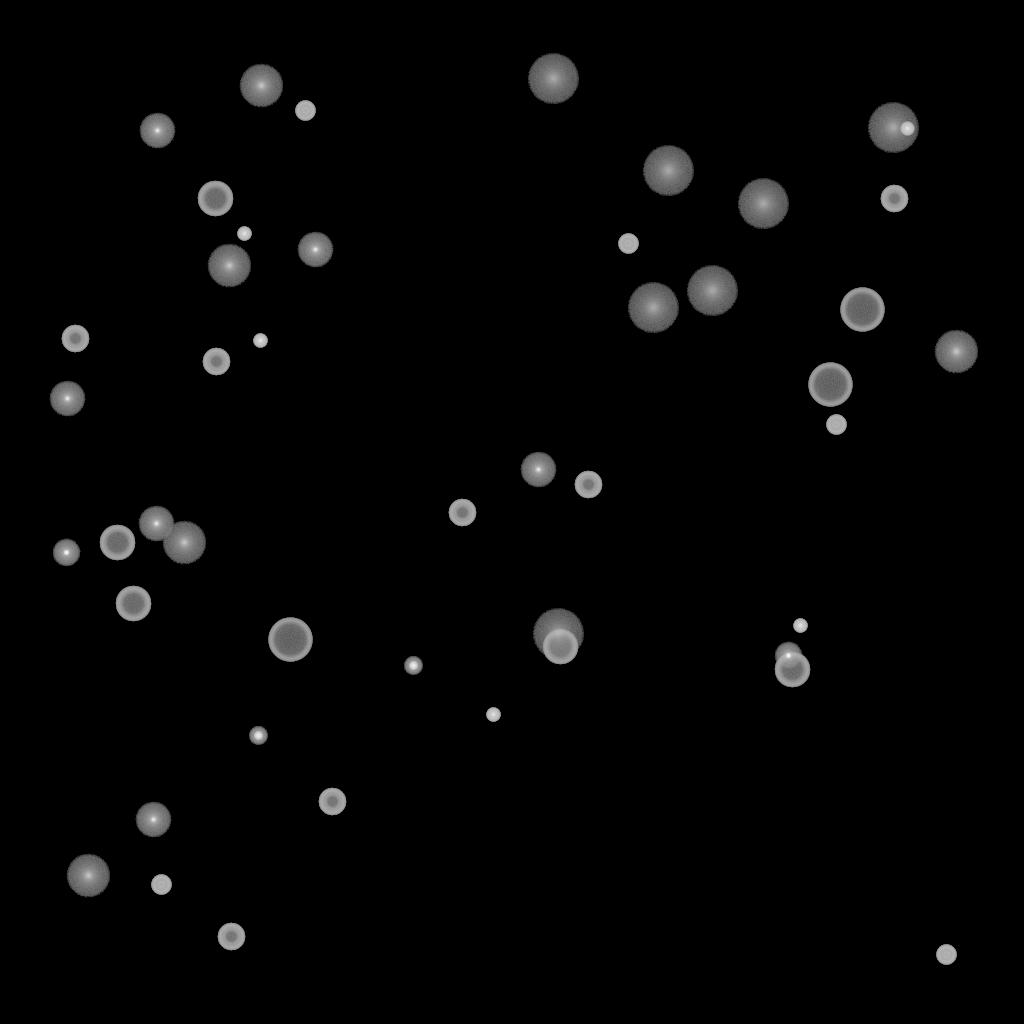depth:-10: (52, 539, 80, 567), (774, 642, 802, 670)
depth:-20: (249, 727, 267, 745), (404, 657, 422, 675)
depth:-30: (486, 708, 500, 722), (237, 227, 251, 241), (900, 122, 914, 136), (253, 334, 267, 348), (793, 619, 807, 633)
depth:-40: (151, 875, 171, 895), (826, 415, 846, 435), (936, 945, 956, 965), (618, 234, 638, 254), (295, 101, 315, 121)
depth:-50: (61, 325, 89, 353), (574, 471, 602, 499), (448, 499, 476, 527), (318, 788, 346, 816), (217, 923, 245, 951), (880, 185, 908, 213), (202, 348, 230, 376)
depth:-60: (197, 181, 233, 217), (99, 525, 135, 561), (115, 586, 151, 622), (774, 652, 810, 688), (542, 629, 578, 665)
depth:-70: (268, 618, 312, 662), (808, 363, 852, 407), (840, 288, 884, 332)
depth:0: (135, 802, 171, 838), (297, 232, 333, 268), (520, 452, 556, 488), (138, 506, 174, 542), (139, 113, 175, 149), (49, 381, 85, 417)
depth:10: (162, 521, 206, 565), (207, 244, 251, 288), (934, 330, 978, 374), (239, 64, 283, 108), (66, 854, 110, 898)
depth:20: (627, 283, 679, 333), (642, 146, 694, 196), (686, 266, 738, 316), (527, 54, 579, 104), (867, 103, 919, 153), (532, 609, 584, 659), (737, 179, 789, 229)
